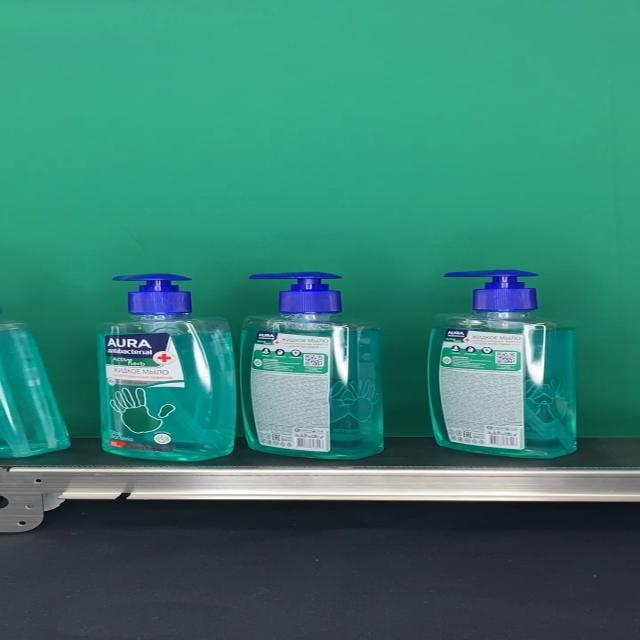Bottle: (427, 270, 578, 458), (240, 270, 384, 460), (95, 272, 238, 462)
Cap: (442, 270, 538, 314), (249, 271, 340, 314), (112, 272, 192, 314)
